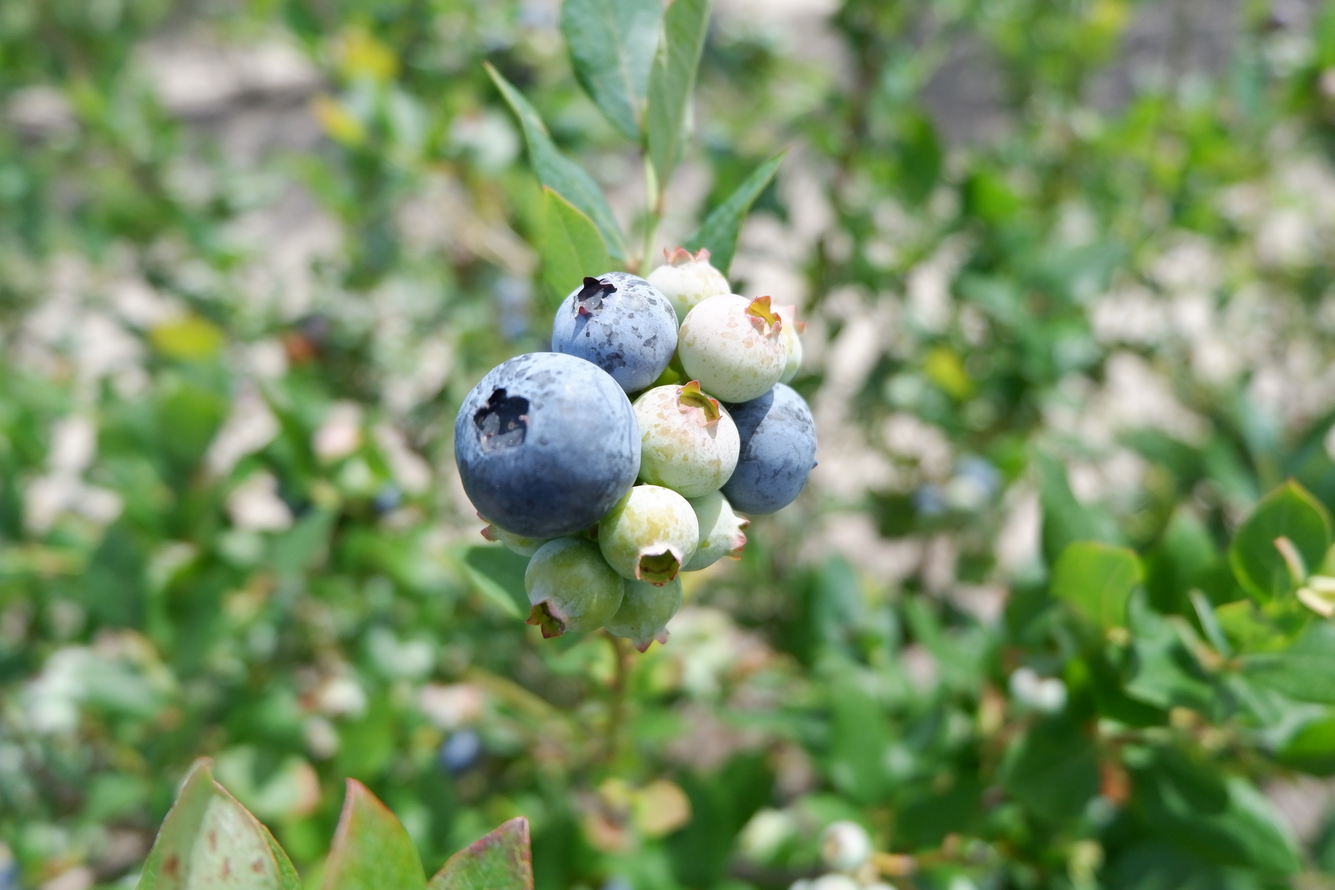Immature: (678, 297, 790, 401), (636, 383, 737, 495), (601, 488, 697, 582), (526, 541, 620, 636), (604, 580, 680, 650), (650, 249, 728, 315), (476, 512, 583, 560), (683, 494, 745, 570), (771, 302, 808, 385)
Mature: (457, 353, 638, 537), (554, 275, 673, 389), (722, 386, 815, 514)
